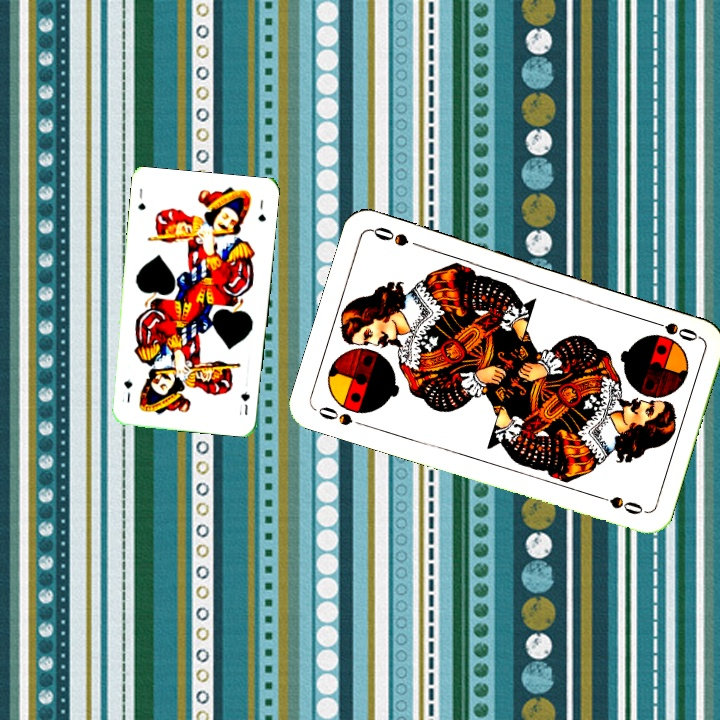GU: (237, 387, 252, 417), (134, 184, 148, 213)
SO: (643, 315, 701, 344), (312, 402, 370, 430)
